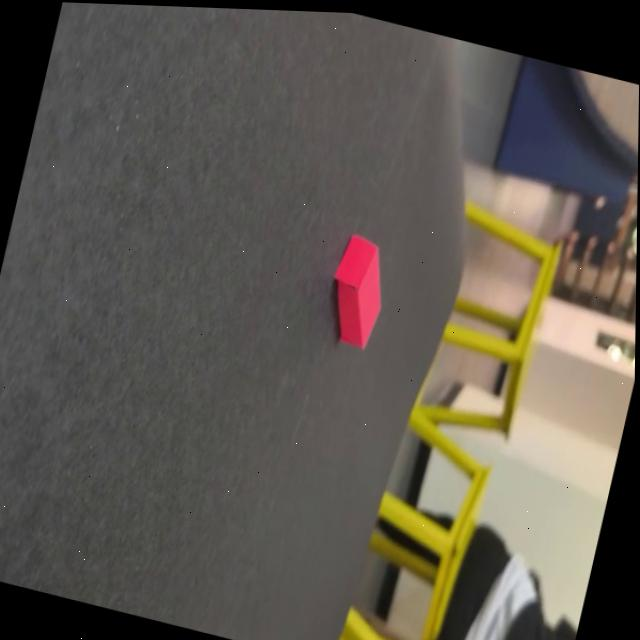red block: (319, 230, 396, 354)
